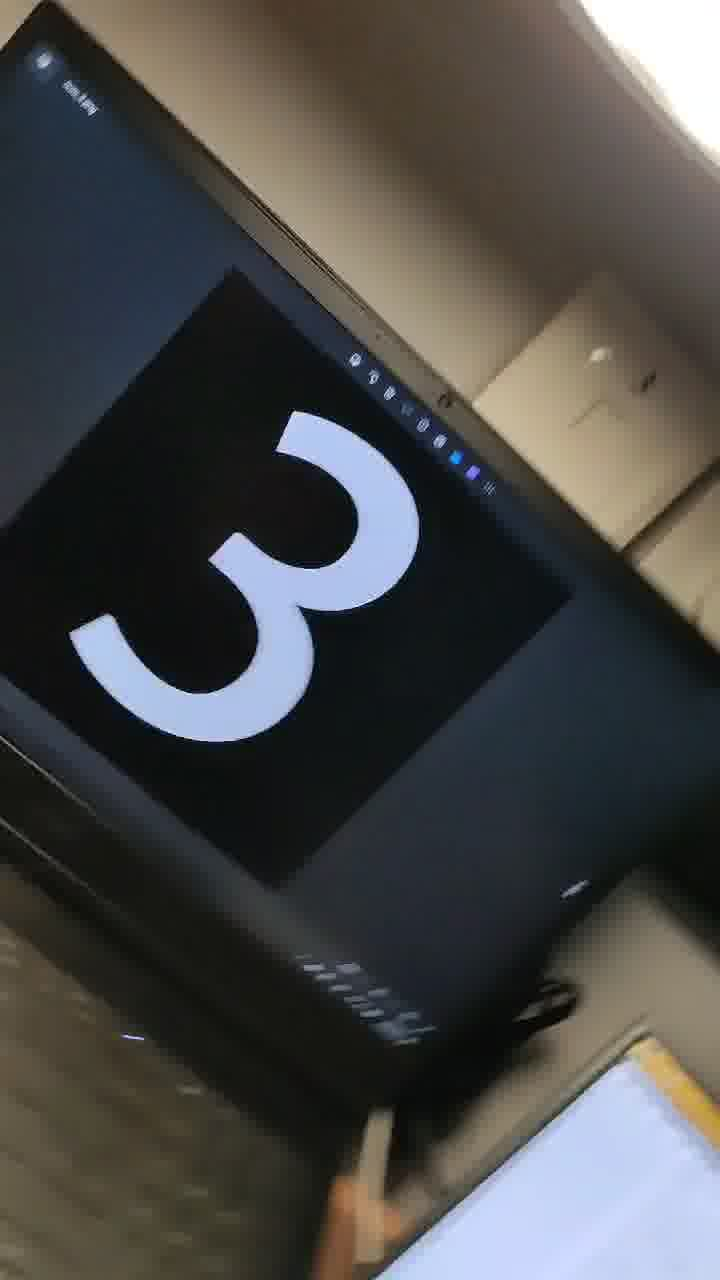three: (26, 281, 471, 879)
